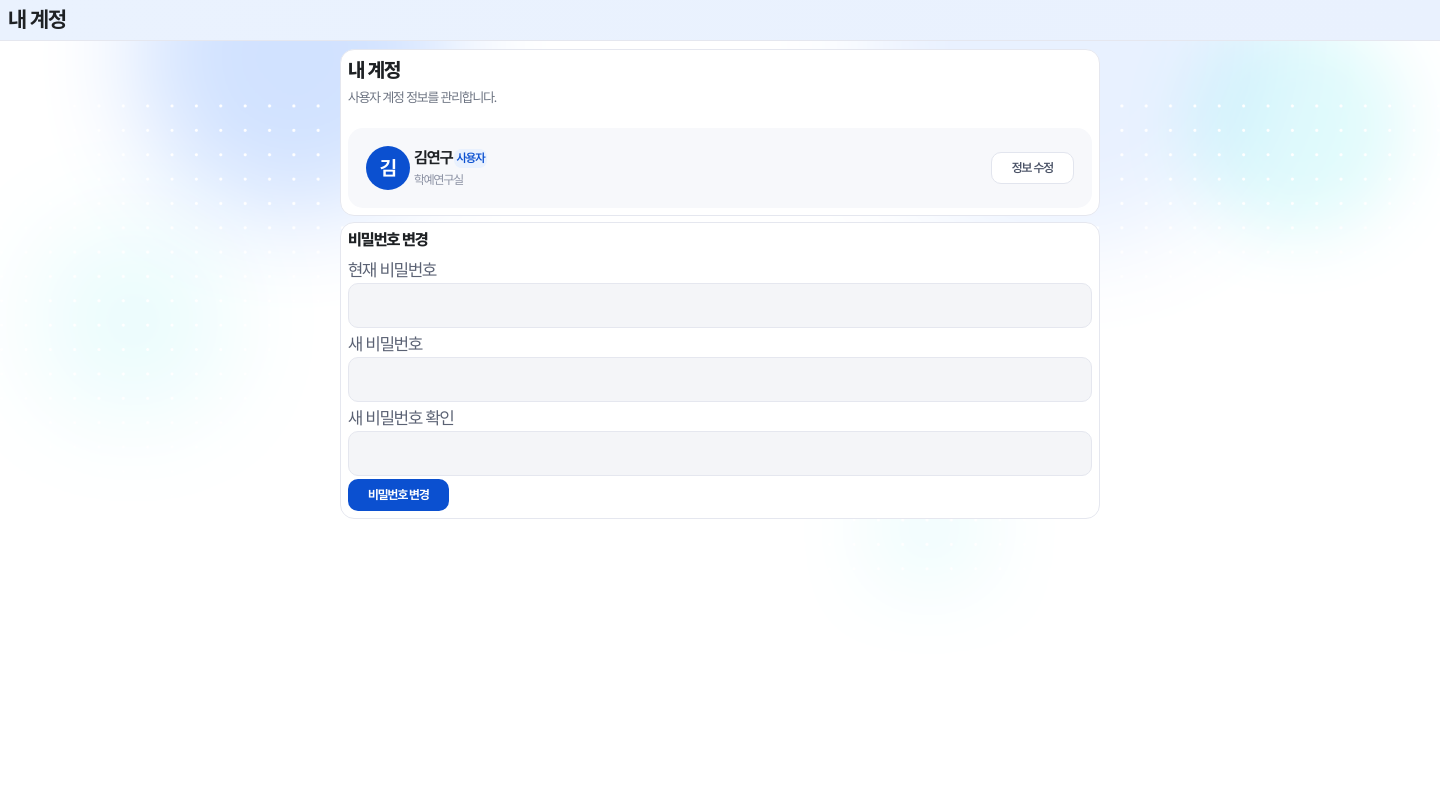
Scenario: 정보 수정 클릭 시 모달이 열리고 이름 변경이 반영된다
The width and height of the screenshot is (1440, 810).
Step 1. Click the button "정보 수정" → (1032,168), box [991,152,1074,184]
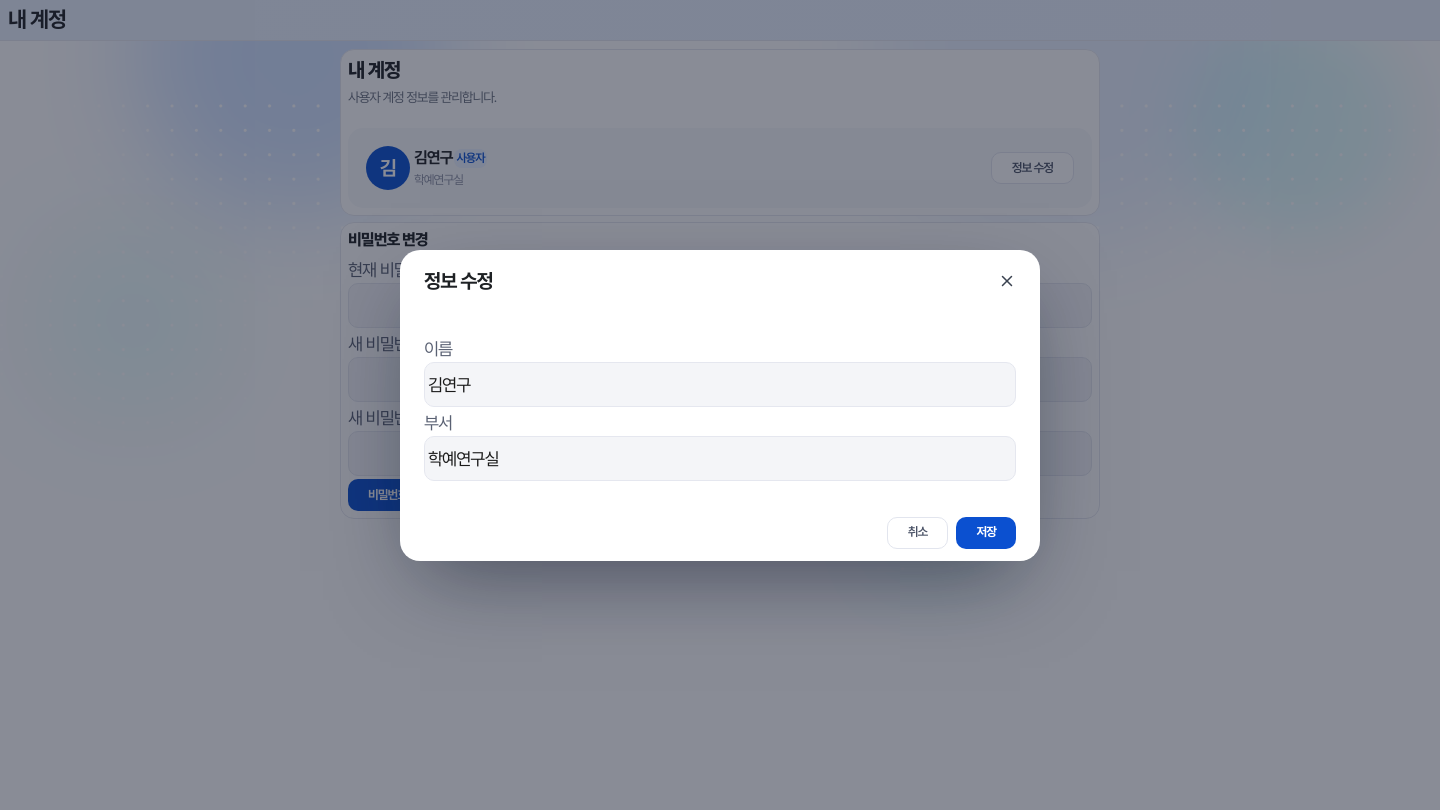
Now the heading "정보 수정" is shown, box [424,266,493,296]
Step 2. Replace the text in the field labelled "이름" with "김역사" → (720,384), box [424,362,1016,406]
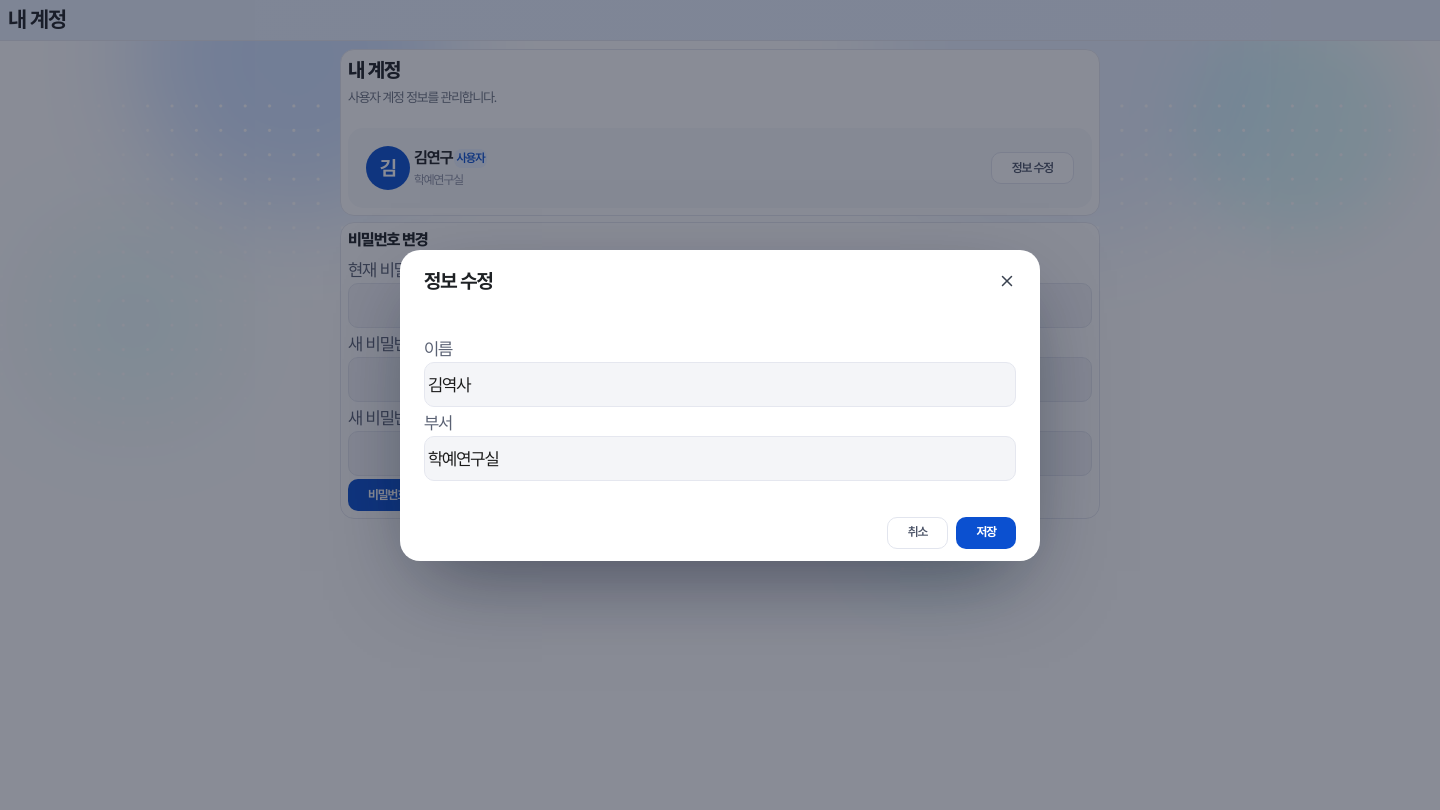
Step 3. Click the button "저장" → (986,532), box [956,516,1016,548]
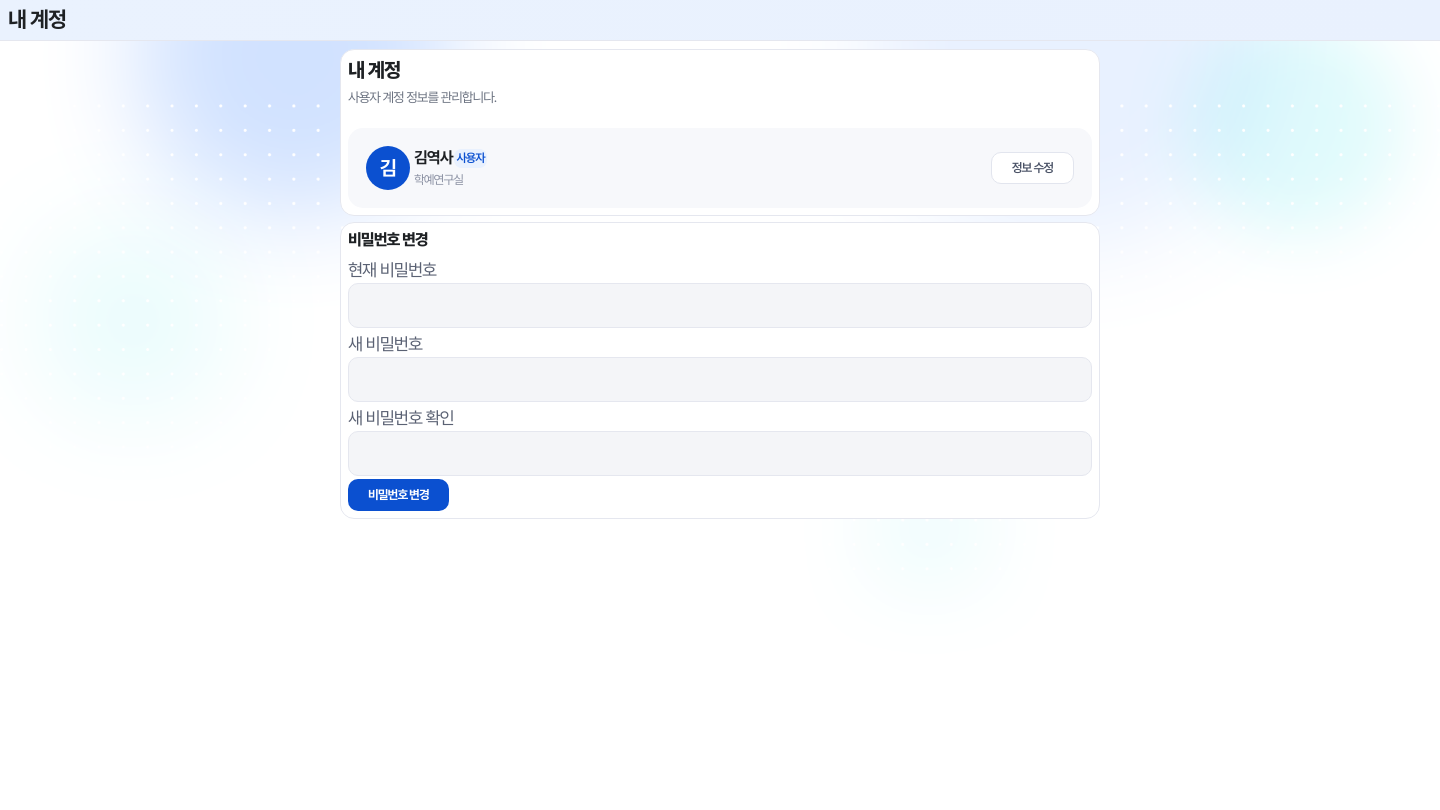
Now the text "김역사" is shown, box [414,148,452,169]
